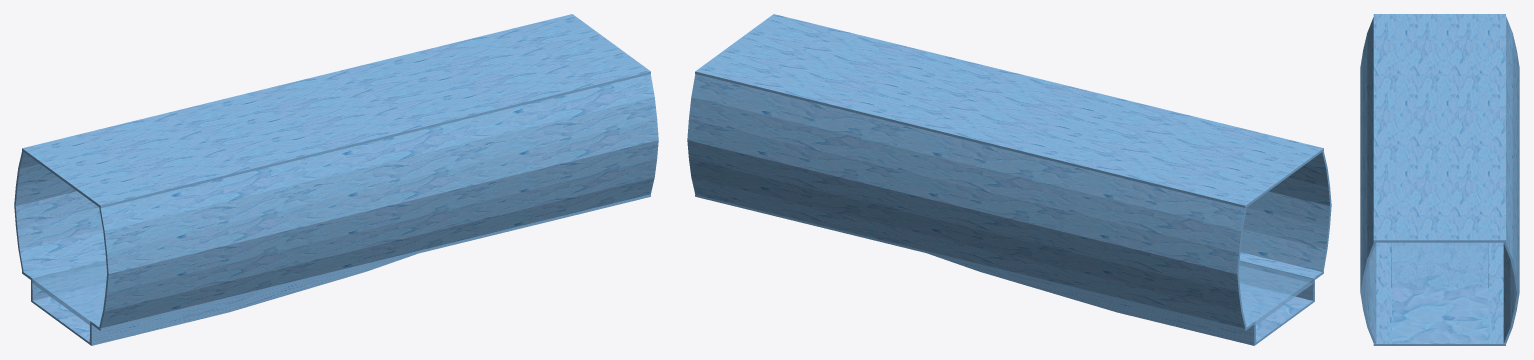
Rendered from Water Tunnel Entrance.fbx.
3 views of the same model, side by side, from view 1: azimuth 30°, elevation 25°; view 2: azimuth 150°, elevation 25°; view 3: azimuth 270°, elevation 25° (orthographic). The views are drawn at different scales.
Parts seen in each view (by area): view 1: Tunnel Roof.001, Plane.001; view 2: Tunnel Roof.001, Plane.001; view 3: Tunnel Roof.001, Plane.001.
Boxes of the visible parts, x1,y1,x2,y2 form: Tunnel Roof.001: [14, 14, 658, 345]; Plane.001: [32, 261, 106, 325]; Tunnel Roof.001: [687, 14, 1331, 345]; Plane.001: [1239, 261, 1313, 325]; Tunnel Roof.001: [1360, 14, 1519, 345]; Plane.001: [1391, 242, 1488, 287].
Size of the model in its own units: 3992 by 1017 by 1185.
